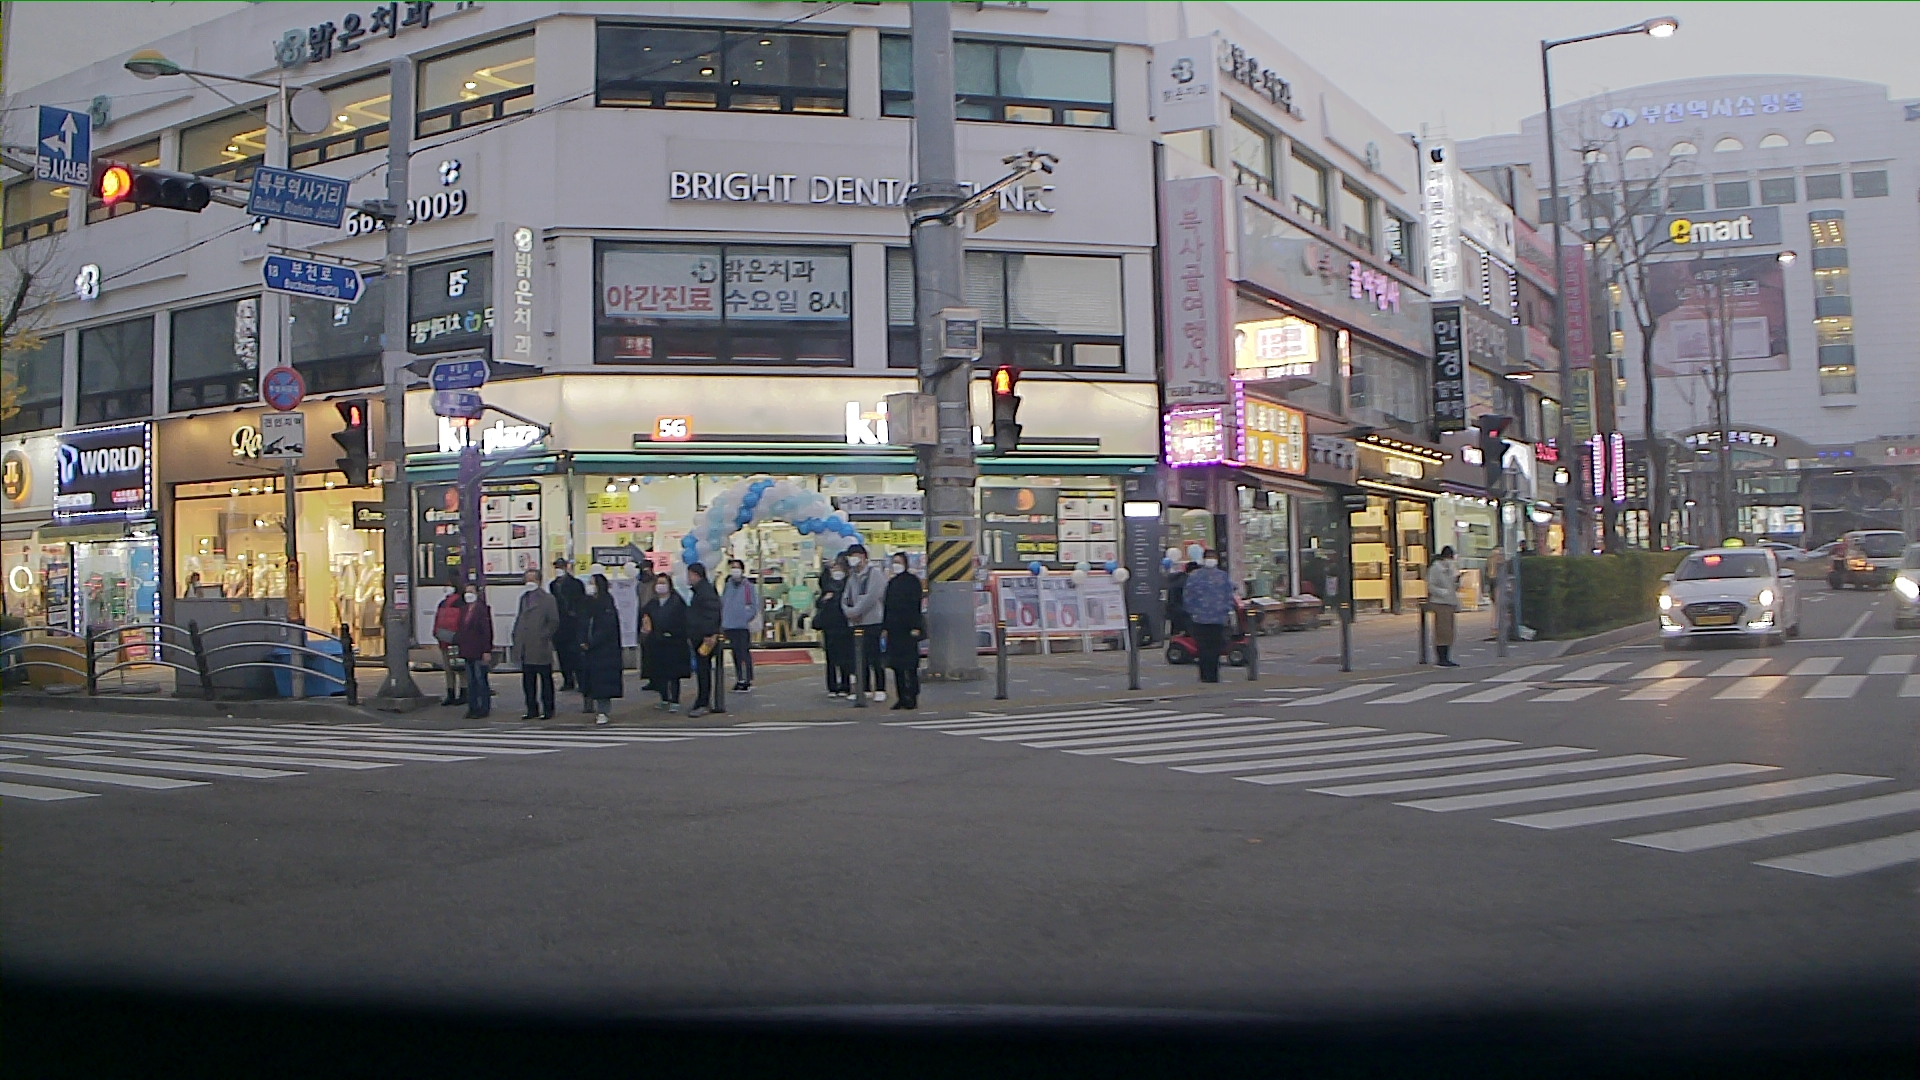trafficLight: (100, 160, 212, 214)
trafficLightBar: (334, 397, 373, 495), (986, 364, 1025, 450)
trafficSignRTG: (34, 103, 90, 190)
